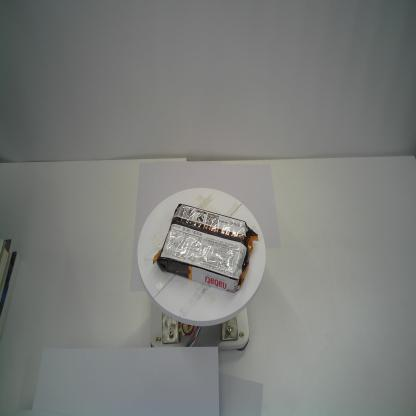Dessert: (150, 202, 260, 294)
